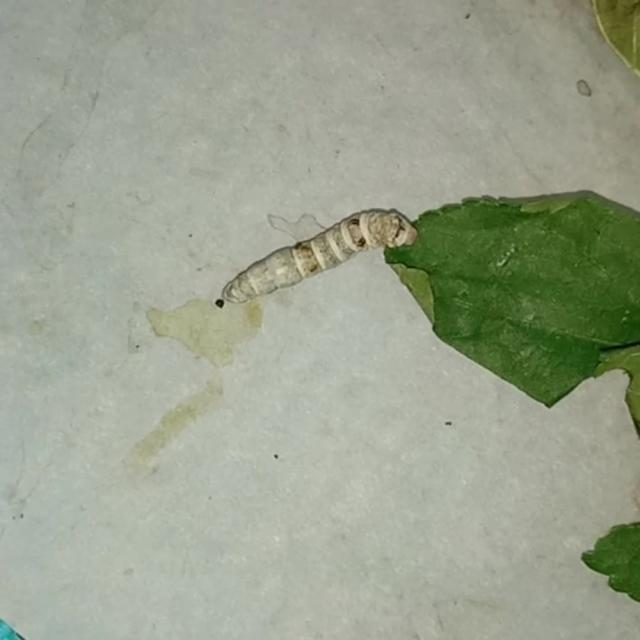Grasserie: (211, 179, 423, 307)
